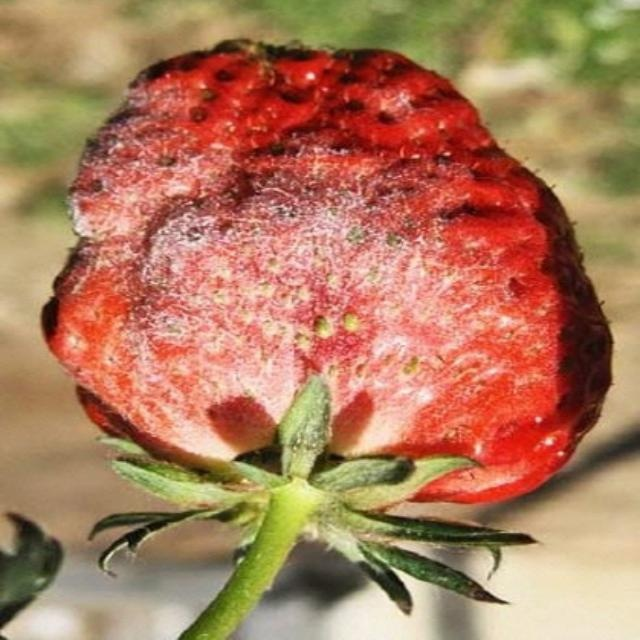Powdery Mildew Fruit: (38, 36, 613, 514)
